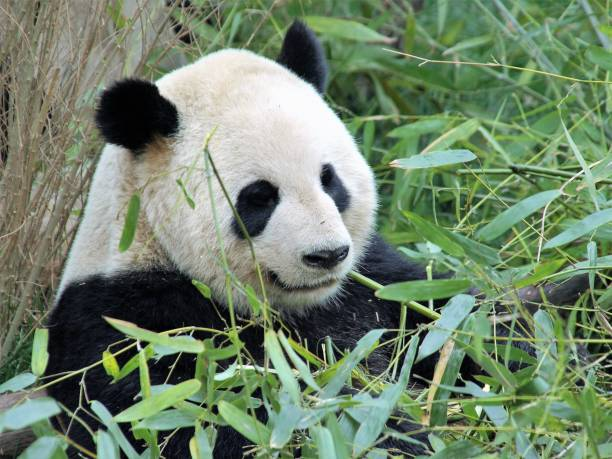panda: (87, 14, 410, 338)
